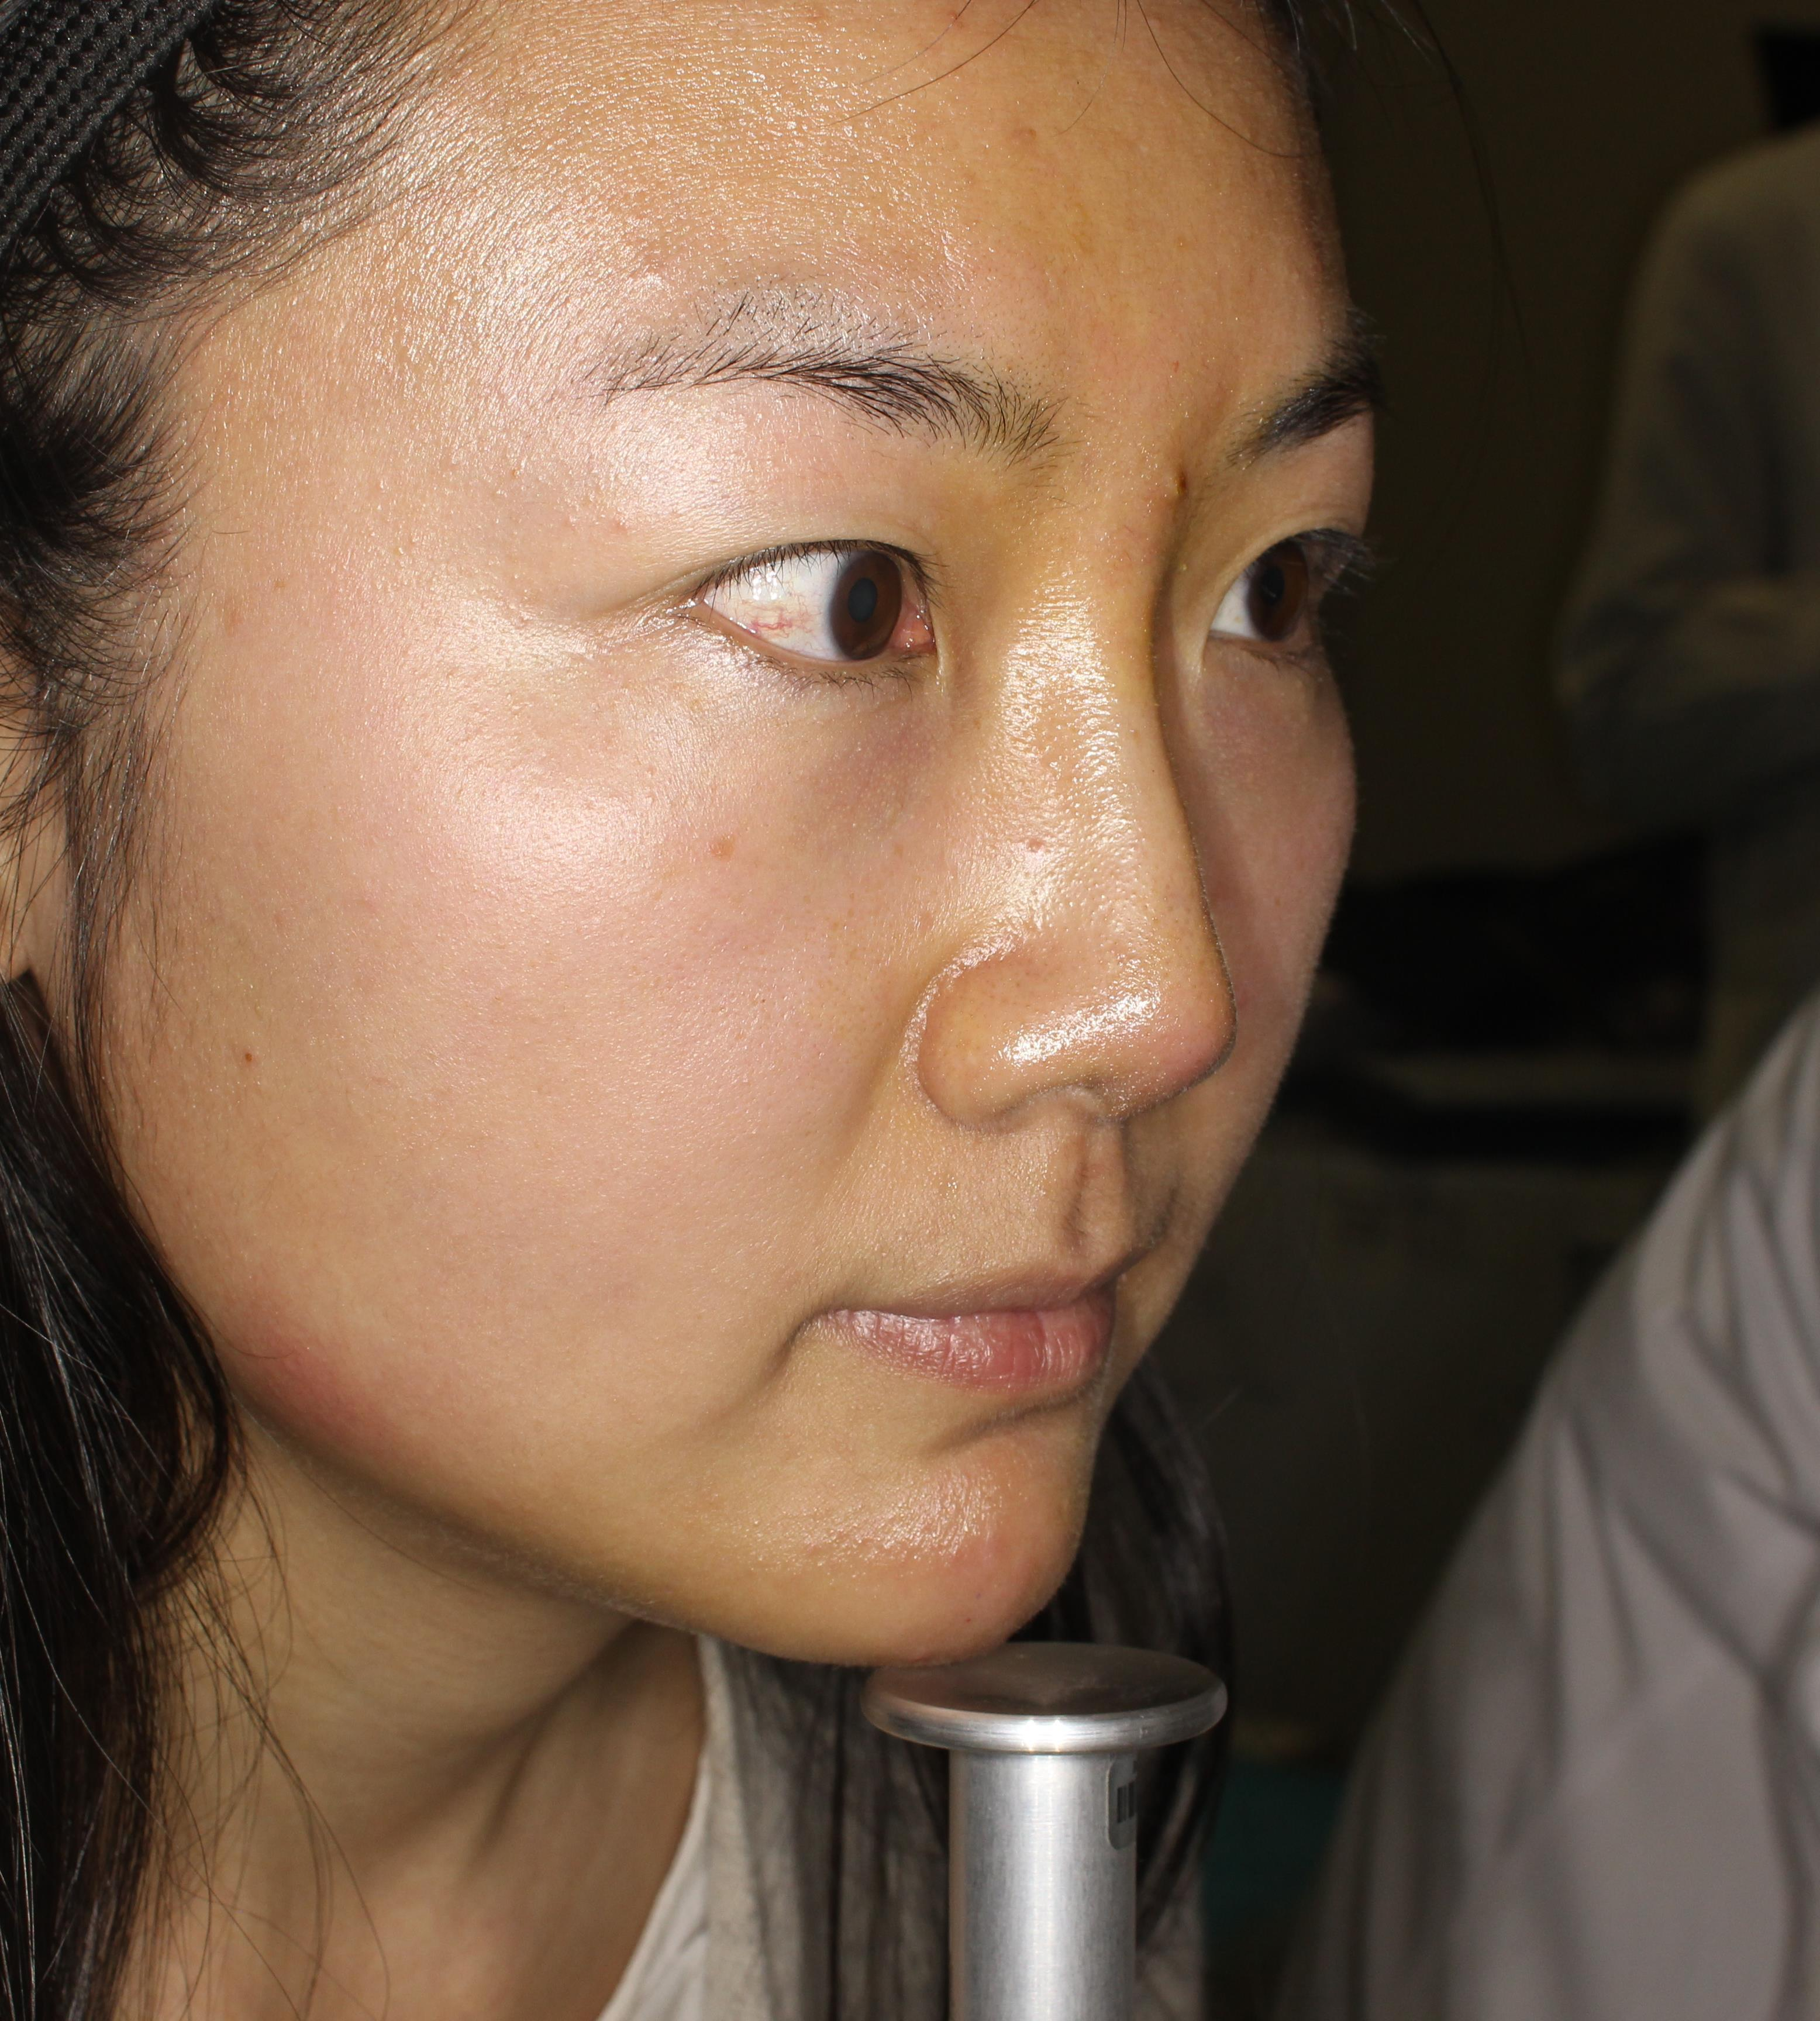fore: (947, 1514, 1031, 1589), (1138, 455, 1210, 518)
